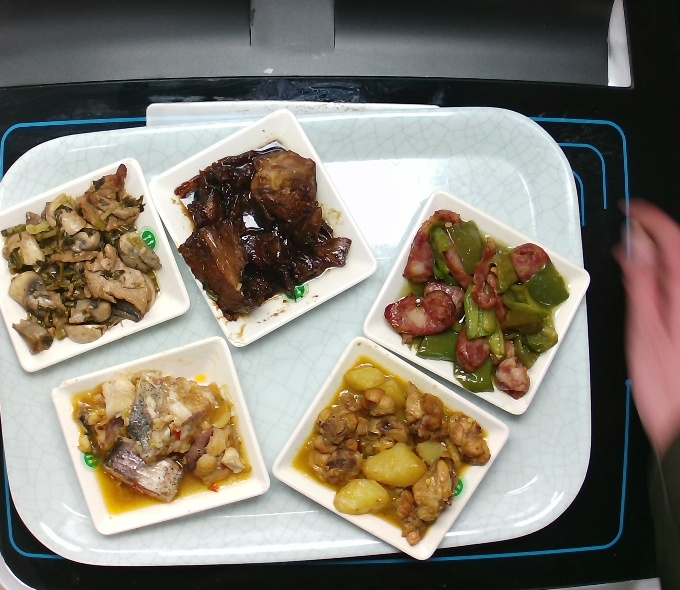wcq-DuoJiaoYuKuai: (66, 363, 260, 522)
wcq-JiangZhiYa: (169, 134, 357, 324)
wcq-MoGuRouPian: (1, 161, 166, 358)
wcq-QingJiaoXiangChang: (378, 204, 575, 403)
wcq-TuDouJiKuai: (290, 354, 496, 548)
